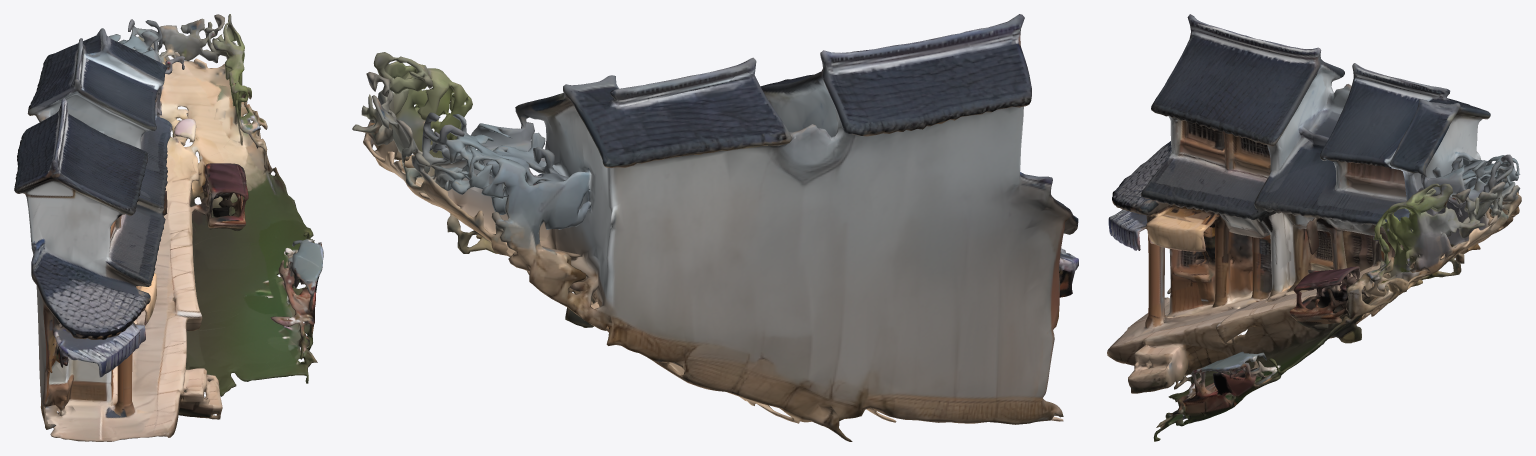
3 renders of one model, left to right at view 1: azimuth 30°, elevation 25°; view 2: azimuth 150°, elevation 25°; view 3: azimuth 270°, elevation 25°, orthographic. The views are drawn at different scales.
Parts seen in each view (by area): view 1: material.001; view 2: material.001; view 3: material.001.
Part boxes in pixels (x1=…): material.001: x1=14, y1=14, x2=323, y2=441; material.001: x1=352, y1=14, x2=1078, y2=441; material.001: x1=1107, y1=14, x2=1521, y2=441.
Size of the model in its own units: 0.8113 by 0.6642 by 0.8123.
Materials: 1 (1 with a texture image).
